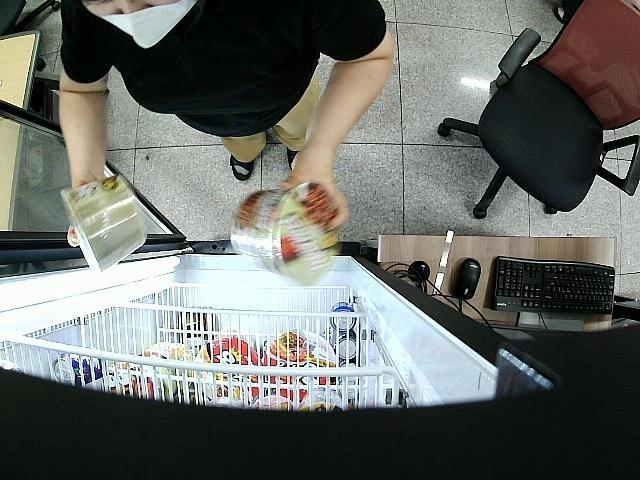03_chapagetti_L: (230, 180, 338, 288), (62, 176, 145, 272)
